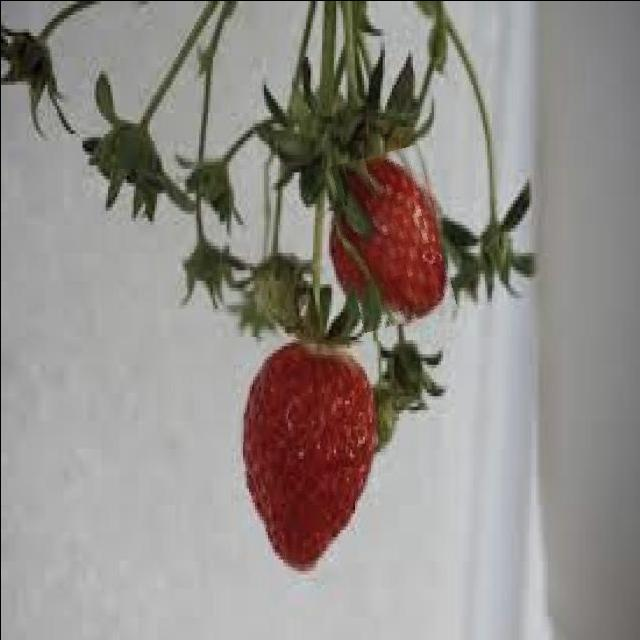strawberry: (238, 338, 378, 576), (332, 149, 448, 328)
